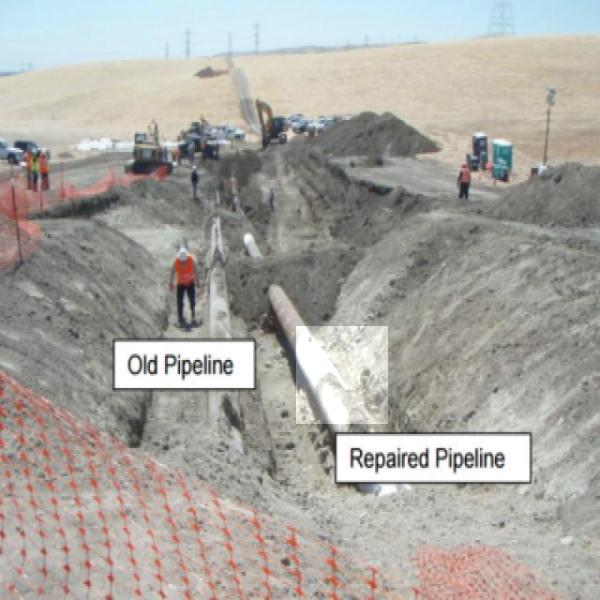no leak: (296, 326, 388, 424)
